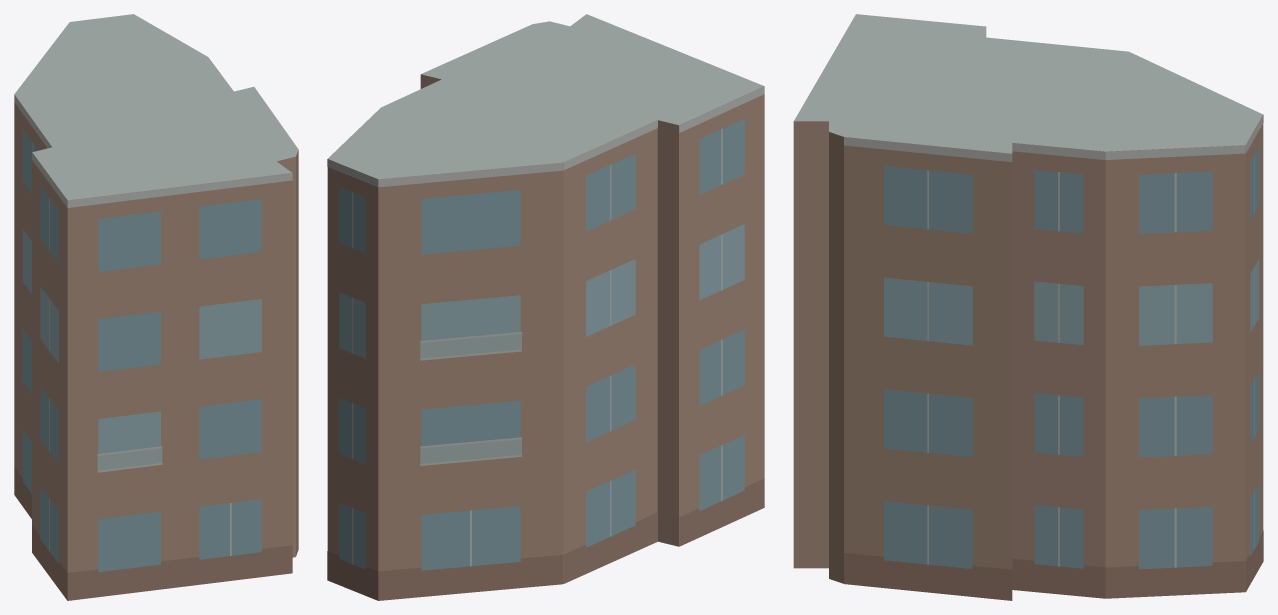
File: survey-upis-32895229.glb
3 views of the same model, side by side, from view 1: azimuth 30°, elevation 25°; view 2: azimuth 150°, elevation 25°; view 3: azimuth 270°, elevation 25° (orthographic). The views are drawn at different scales.
Parts seen in each view (by area): view 1: survey-upis-32895229.tmp; view 2: survey-upis-32895229.tmp; view 3: survey-upis-32895229.tmp.
Boxes of the visible parts, left/top/right/bottom form: survey-upis-32895229.tmp: left=14, top=14, right=298, bottom=600; survey-upis-32895229.tmp: left=327, top=14, right=764, bottom=600; survey-upis-32895229.tmp: left=793, top=14, right=1263, bottom=600.
Bounding box in the file's own units: 8.66 × 12.9 × 12.3.
